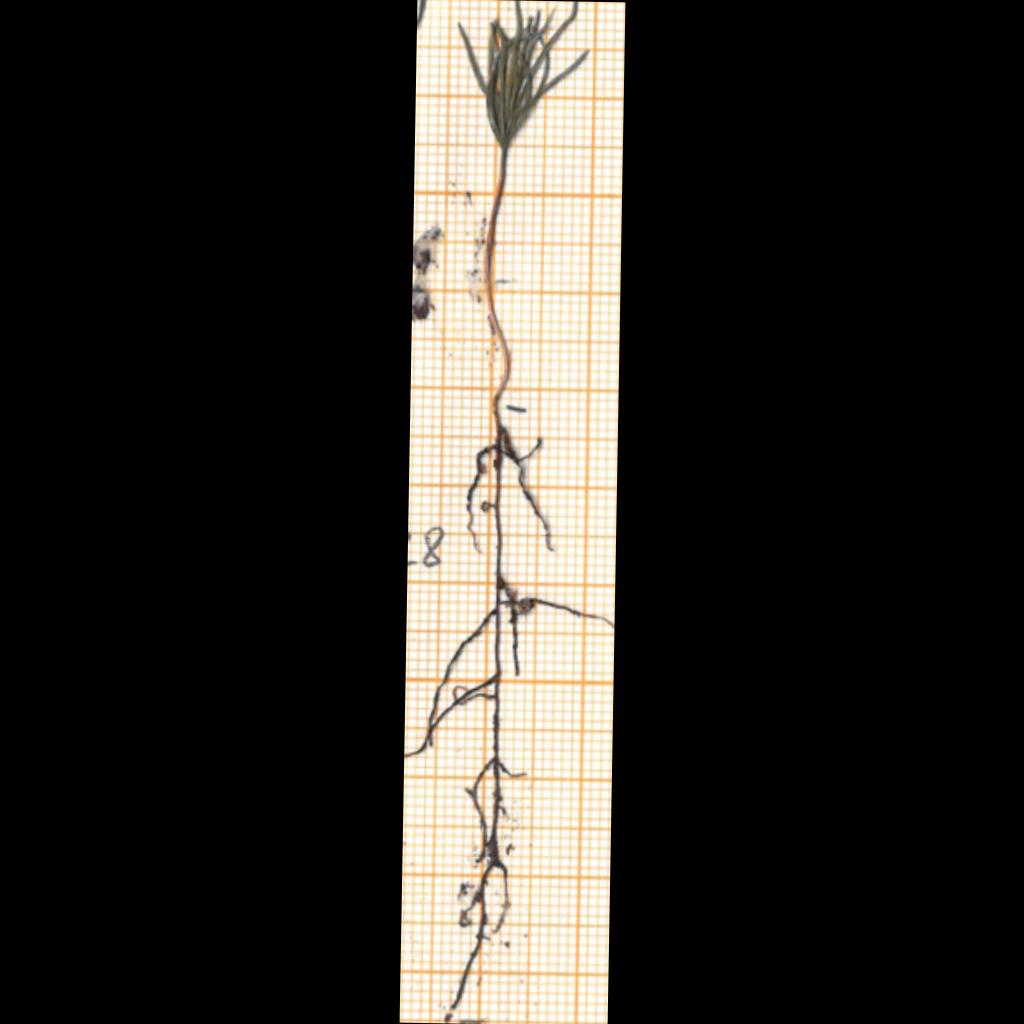flowerPinus: (459, 0, 587, 149)
rootPinus: (406, 422, 597, 1022)
stemPinus: (485, 150, 510, 419)
